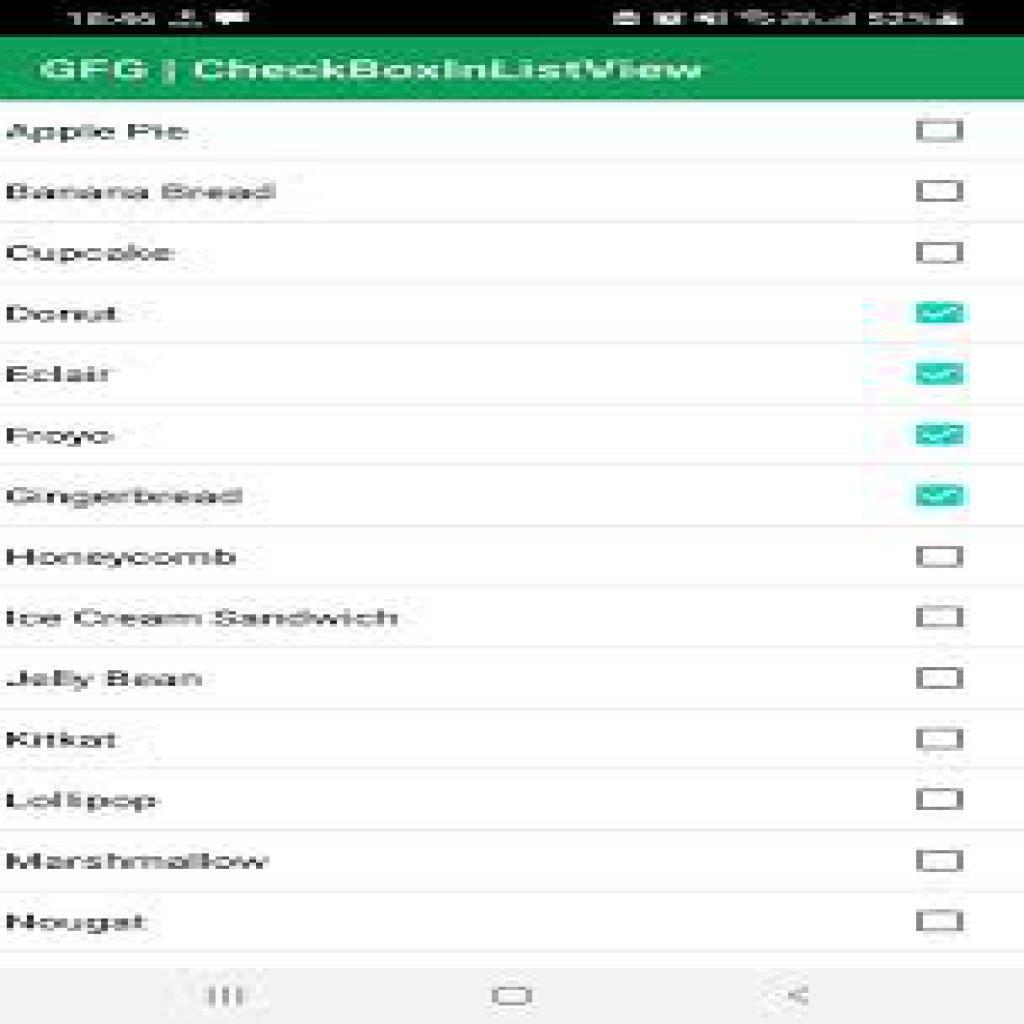checkbox: (914, 421, 968, 450), (916, 483, 968, 507), (915, 300, 965, 324), (915, 363, 964, 387), (917, 117, 963, 142), (914, 726, 963, 749), (916, 180, 962, 204), (917, 787, 963, 811), (917, 605, 965, 628), (915, 241, 964, 263), (918, 910, 964, 933), (917, 546, 963, 569), (915, 849, 963, 871), (917, 668, 964, 689)
